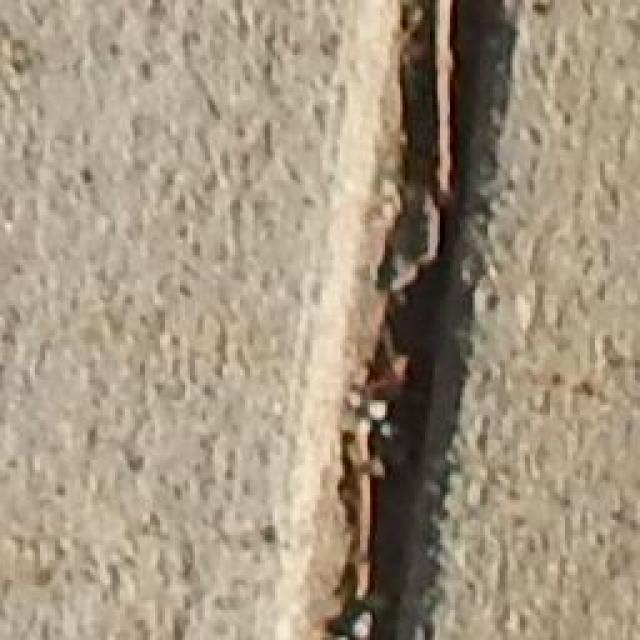concrete-crack: (306, 0, 538, 640)
